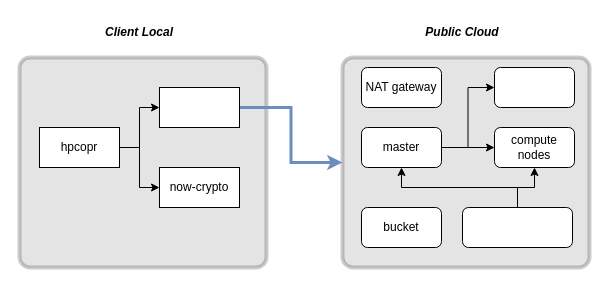
Some shapes in this 608 by 286 pixel diagram are drawn without their labels. The shapes that lost their labels are listed below. From the top down, each one's box as (x1, y1, x2, y2) in pixels, then its label:
(158, 86, 240, 128): Terraform
(494, 66, 574, 108): database
(462, 206, 572, 248): NFS1 - /hpc_apps NFS2 - /hpc_data
